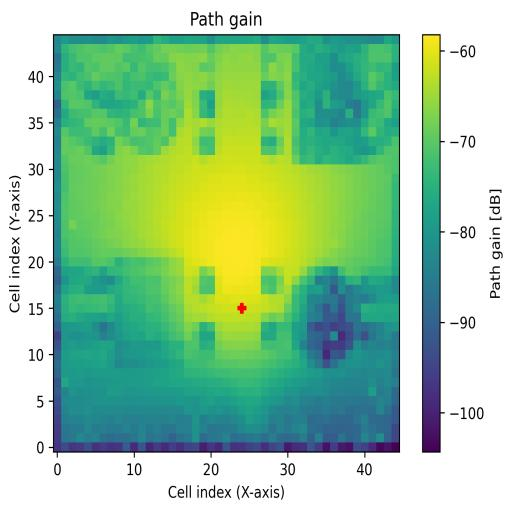Concrete: (292, 52, 376, 164)
Glass: (99, 50, 184, 156)
Metal: (292, 268, 376, 369)
Wood: (116, 257, 186, 370)
